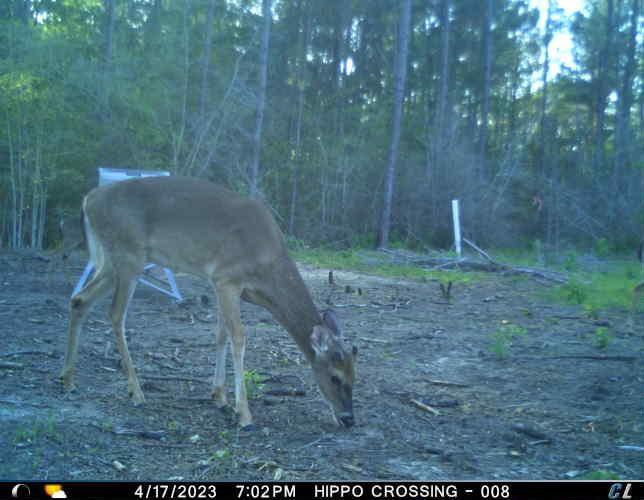Deer: (59, 171, 365, 436), (56, 217, 89, 289)
